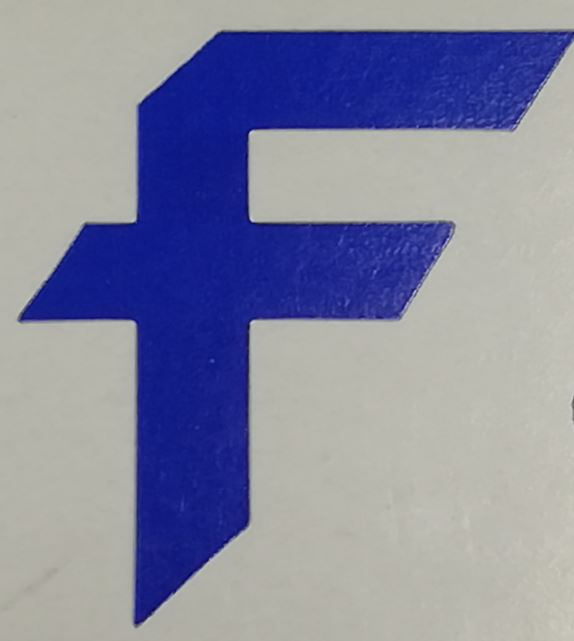Fisher: (13, 26, 572, 632)
